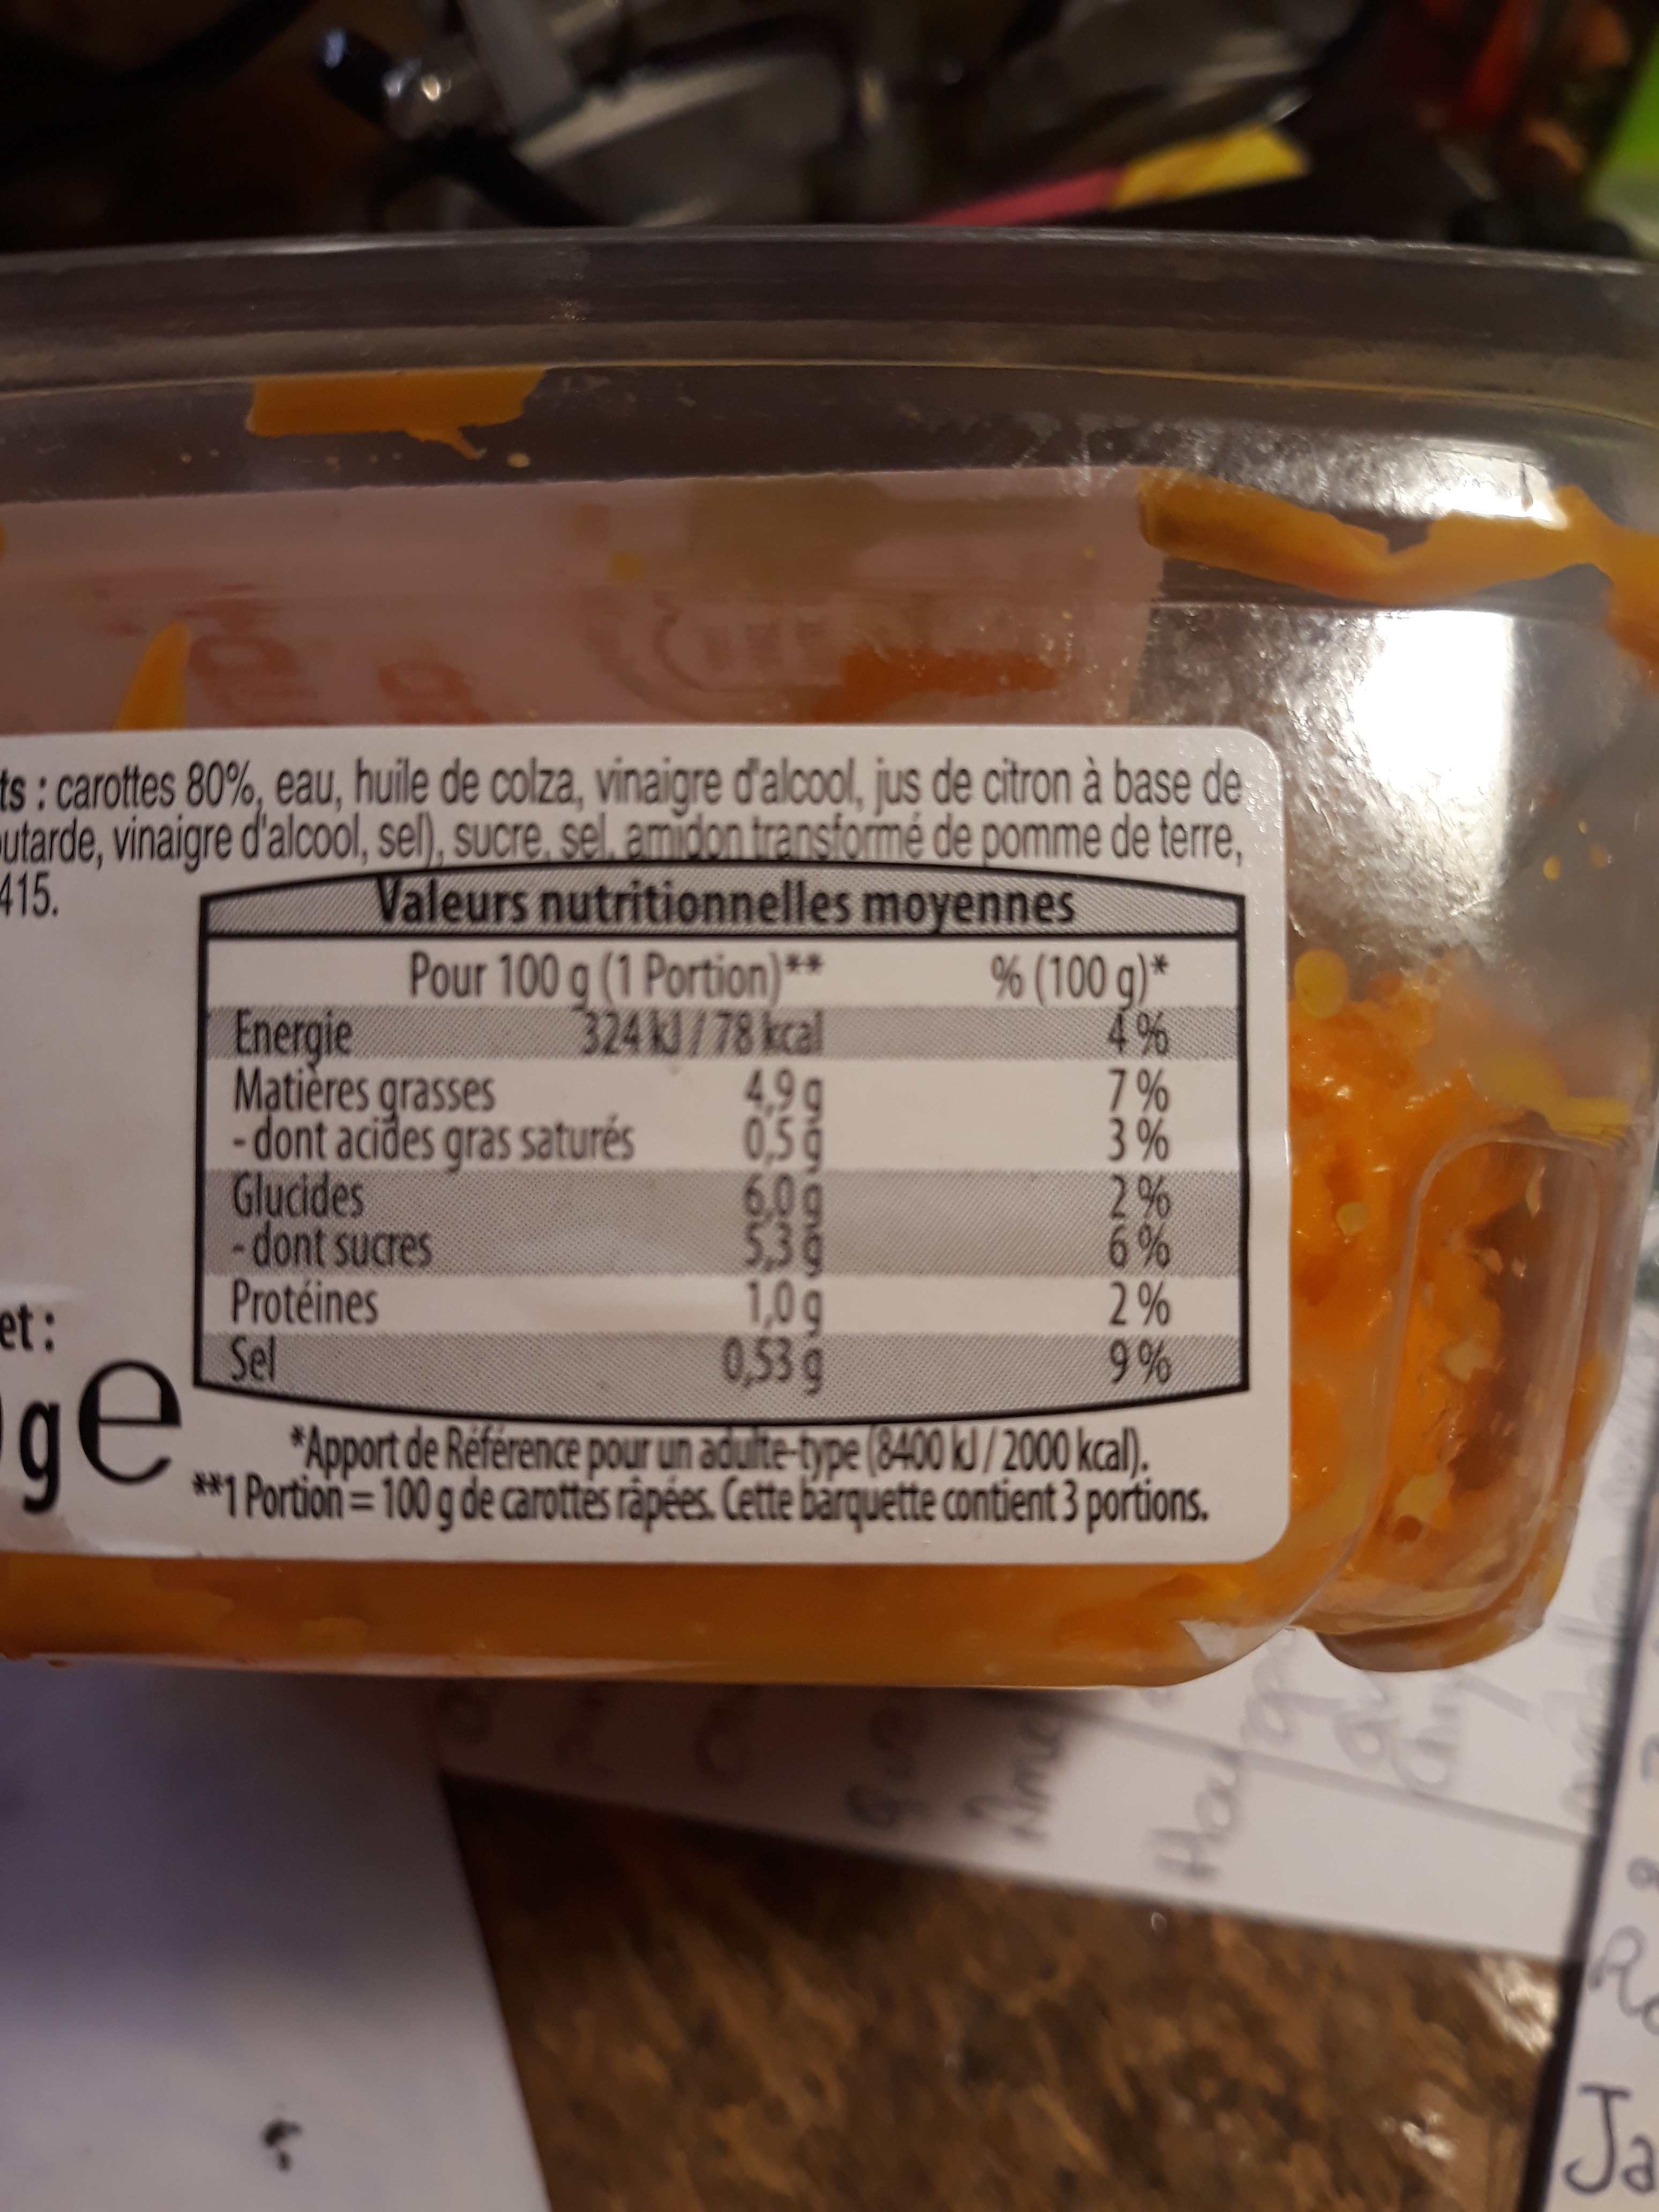column: (200, 1001, 542, 1421), (945, 942, 1229, 1433), (577, 1001, 840, 1414)
table: (195, 869, 1249, 1402)
